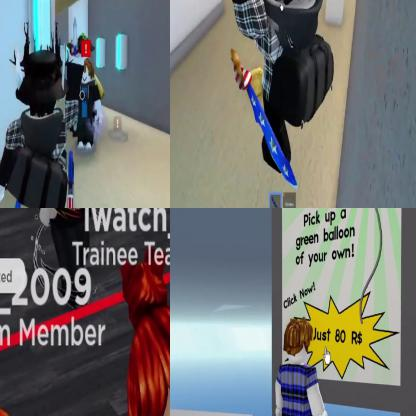Roblox-Avatar: (206, 1, 335, 192), (1, 18, 86, 208), (75, 247, 170, 416), (34, 209, 117, 311), (276, 317, 329, 416), (79, 60, 104, 150)
